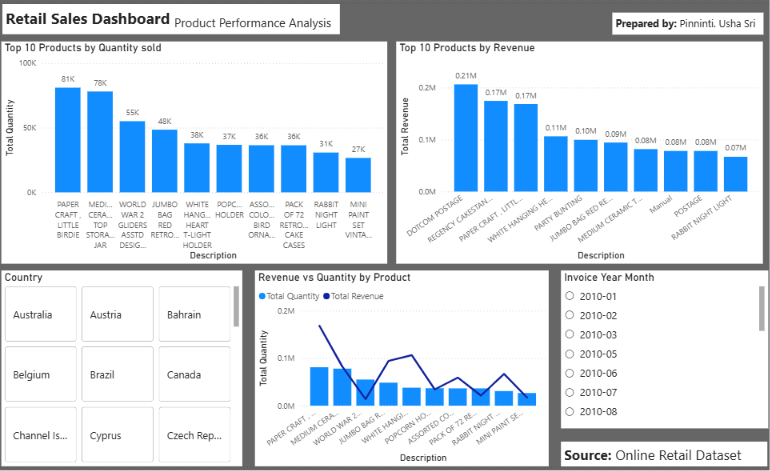

The page's visual inventory and layout, read from the dashboard file:
{"tool":"powerbi","page":{"name":"Retail_Sales_Dashboard-Page2","canvas":[1280,720],"ordinal":1},"visuals":[{"type":"clusteredColumnChart","title":"Top 10 Products by Revenue","fields":{"Category":["online_retail_cleaned.Description"],"Y":["online_retail_cleaned.Total Revenue"]},"box":[628.8,57.5,571.2,346.2],"z":0},{"type":"clusteredColumnChart","title":"Top 10 Products by Quantity sold","fields":{"Category":["online_retail_cleaned.Description"],"Y":["online_retail_cleaned.Total Quantity"]},"box":[13.8,57.5,601.2,346.2],"z":1000},{"type":"lineClusteredColumnComboChart","title":"Revenue vs Quantity by Product","fields":{"Y":["online_retail_cleaned.Total Quantity"],"Y2":["online_retail_cleaned.Total Revenue"],"Category":["online_retail_cleaned.Description"]},"box":[408.8,415,457.5,305],"z":2000},{"type":"advancedSlicerVisual","fields":{"Values":["online_retail_cleaned.Country"]},"box":[13.8,415,375,305],"z":3000},{"type":"listSlicer","fields":{"Values":["online_retail_cleaned.Invoice Year Month"]},"box":[885.7,415.7,322.9,245.7],"z":4000},{"type":"textbox","box":[14.3,0,525.7,47.1],"z":5000},{"type":"textbox","box":[964.3,12.9,235.7,34.3],"z":6000},{"type":"textbox","box":[885.7,681.4,321.4,38.6],"z":7000}]}

Visuals, with their boxes on the page's 1280x720 design canvas (x1, y1, x2, y2). These are canvas units, not pixel positions in the 770x471 screenshot, which may show the page scaled, cropped or inside an application window:
"Top 10 Products by Revenue" clusteredColumnChart: box=[629, 58, 1200, 404]
"Top 10 Products by Quantity sold" clusteredColumnChart: box=[14, 58, 615, 404]
"Revenue vs Quantity by Product" lineClusteredColumnComboChart: box=[409, 415, 866, 720]
advancedSlicerVisual - online_retail_cleaned.Country: box=[14, 415, 389, 720]
listSlicer - online_retail_cleaned.Invoice Year Month: box=[886, 416, 1209, 661]
textbox: box=[14, 0, 540, 47]
textbox: box=[964, 13, 1200, 47]
textbox: box=[886, 681, 1207, 720]
